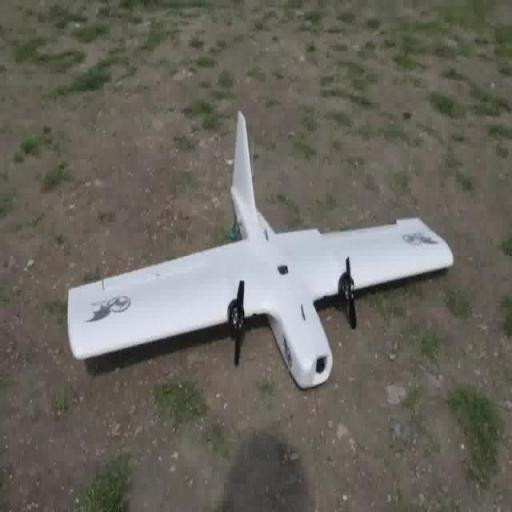uav: (66, 108, 456, 391)
